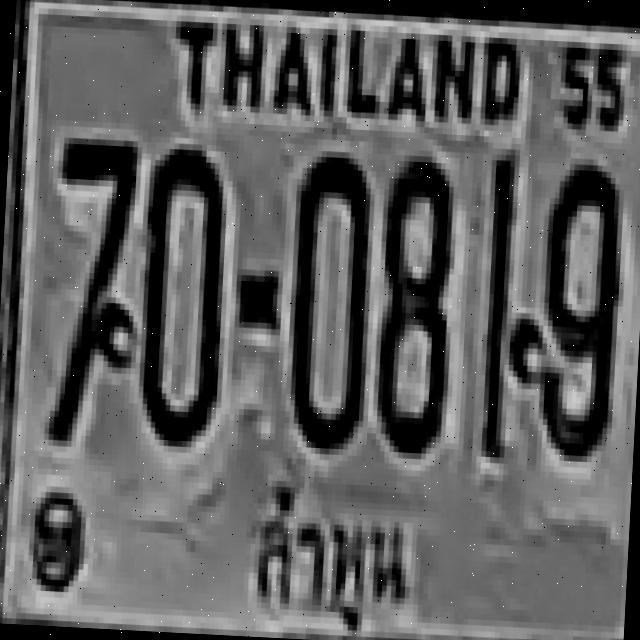0: (134, 142, 232, 442), (283, 150, 377, 444)
1: (468, 140, 532, 492)
7: (36, 116, 148, 450)
8: (376, 152, 464, 452)
9: (532, 158, 630, 458)
Lamphun: (227, 472, 429, 640)
